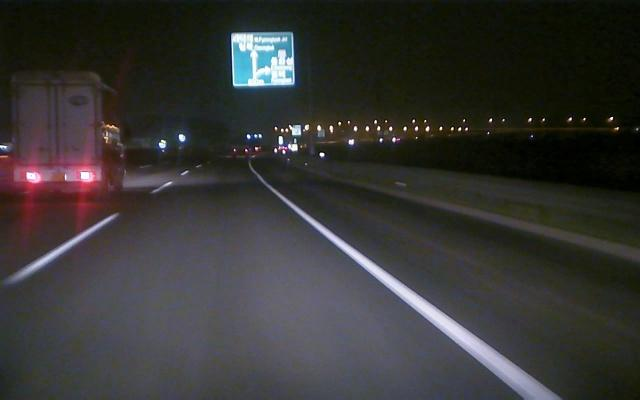lane: (271, 189, 564, 399), (2, 181, 173, 288)
